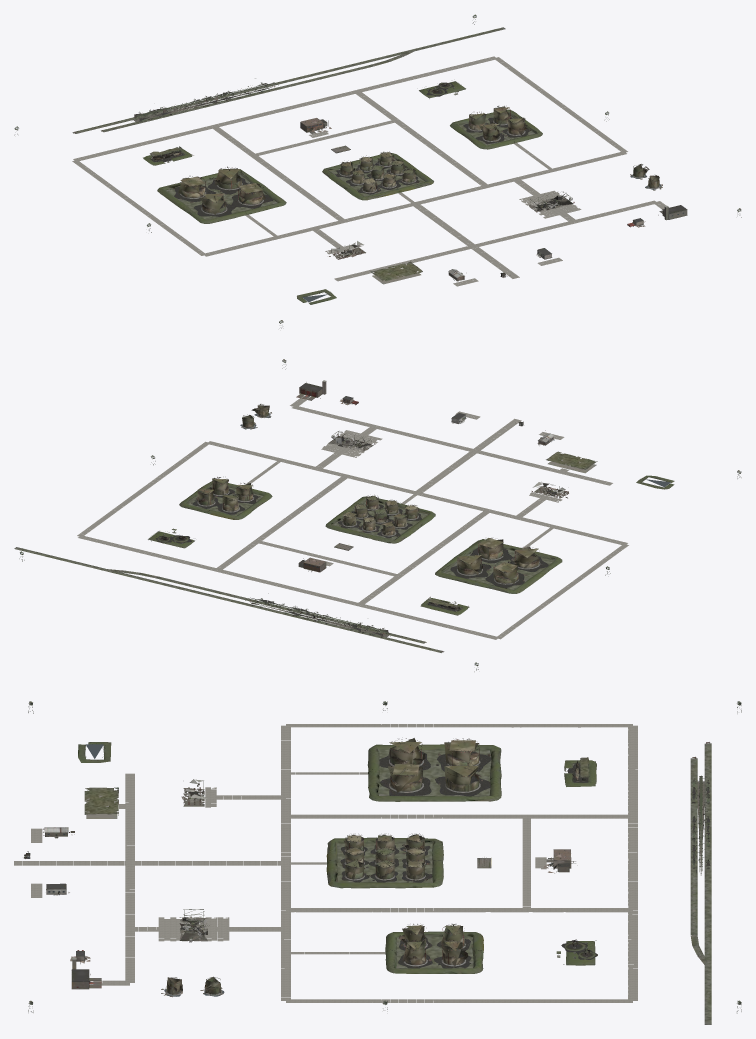
File: site_fuel_city_lo.glb
The picture shows the model from 3 angles, top to bottom: view 1: azimuth 30°, elevation 25°; view 2: azimuth 150°, elevation 25°; view 3: azimuth 270°, elevation 25°; orthographic projection. The views are drawn at different scales.
Parts seen in each view (by area): view 1: deco|tile_conc, deco|F_A, b_rack|F_A; view 2: deco|tile_conc, deco|F_A, b_rack|F_A; view 3: deco|tile_conc, deco|F_A, b_t4_ruin|F_B, b_rgs_ruin|F_B, b_t2|F_A, b_t2_ruin|F_B, b_t3|F_A, b_rack|F_A, b_t1|F_A, b_t3_ruin|F_B, b_fire|F_A, b_t4|F_A.
Part boxes in pixels (x1=…): deco|tile_conc: x1=72, y1=56, x2=668, y2=286; deco|F_A: x1=14, y1=14, x2=741, y2=328; b_rack|F_A: x1=132, y1=82, x2=275, y2=121; deco|tile_conc: x1=77, y1=396, x2=628, y2=639; deco|F_A: x1=14, y1=359, x2=741, y2=671; b_rack|F_A: x1=245, y1=598, x2=390, y2=637; deco|tile_conc: x1=14, y1=724, x2=637, y2=1002; deco|F_A: x1=28, y1=701, x2=741, y2=1024; b_t4_ruin|F_B: x1=435, y1=773, x2=490, y2=796; b_rgs_ruin|F_B: x1=564, y1=760, x2=596, y2=786; b_t2|F_A: x1=388, y1=762, x2=423, y2=792; b_t2_ruin|F_B: x1=379, y1=775, x2=431, y2=795; b_t3|F_A: x1=444, y1=738, x2=481, y2=765; b_rack|F_A: x1=696, y1=775, x2=705, y2=875; b_t1|F_A: x1=388, y1=738, x2=422, y2=764; b_t3_ruin|F_B: x1=436, y1=751, x2=491, y2=771; b_fire|F_A: x1=71, y1=957, x2=101, y2=989; b_t4|F_A: x1=444, y1=762, x2=479, y2=791.
Size of the model in its own units: 522 by 16.73 by 514.
75 materials, 60 textured.
